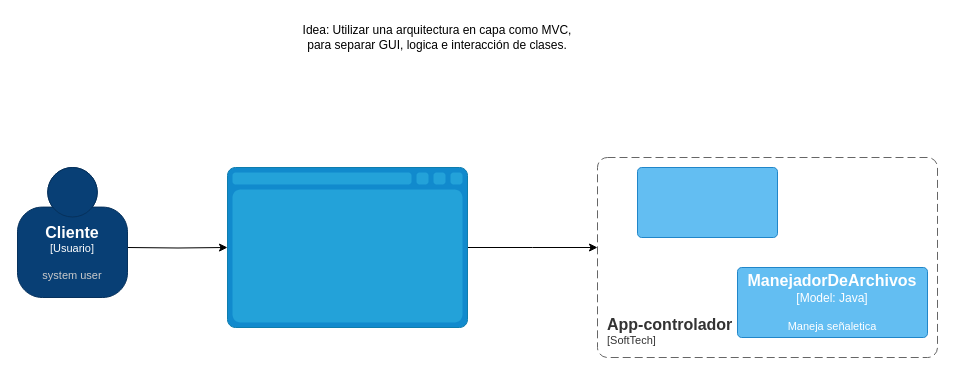
The diagram is 955 pixels wide and 375 high, and some of its shapes have lost their labels. Here are the shapes that lost their labels. From the top down, the centre of each, then its label:
point 707,202: Traductor [Model: Java] Translator Class
point 347,247: GUI [View: Java] Vista de interacción
